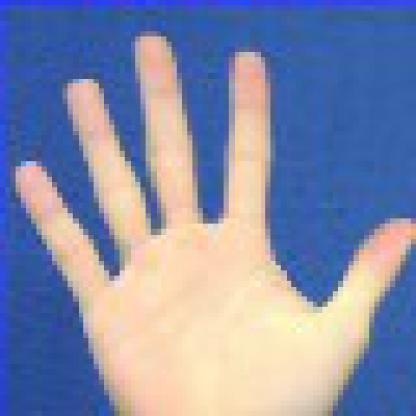five: (5, 21, 411, 411)
